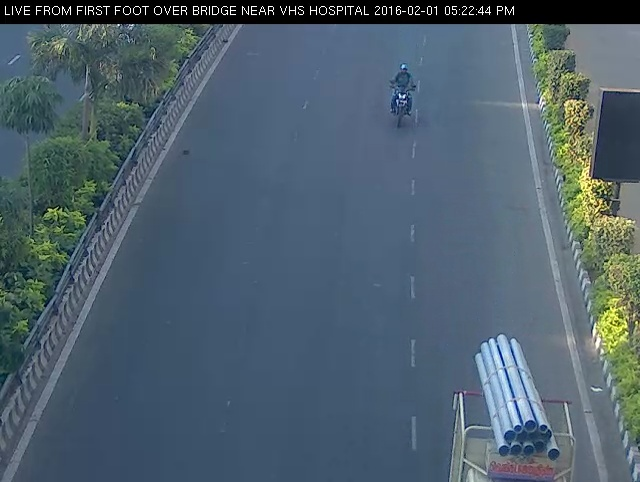Car: (433, 314, 592, 482)
Person: (378, 58, 421, 137)
